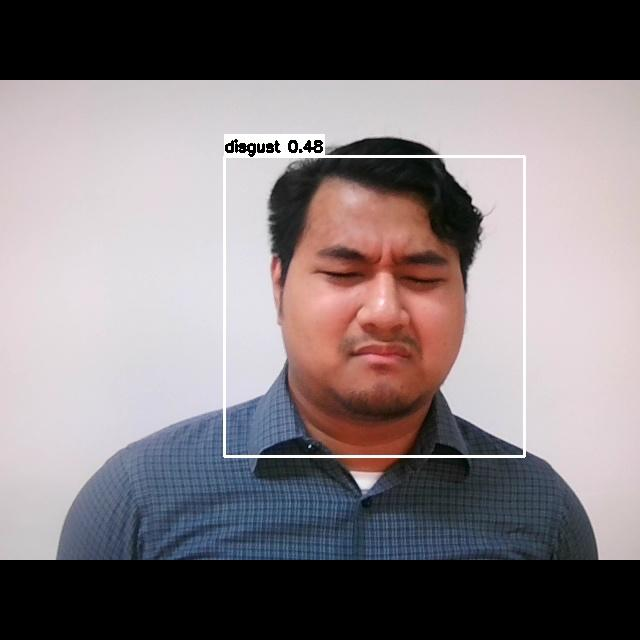Disgust: (294, 223, 469, 406)
